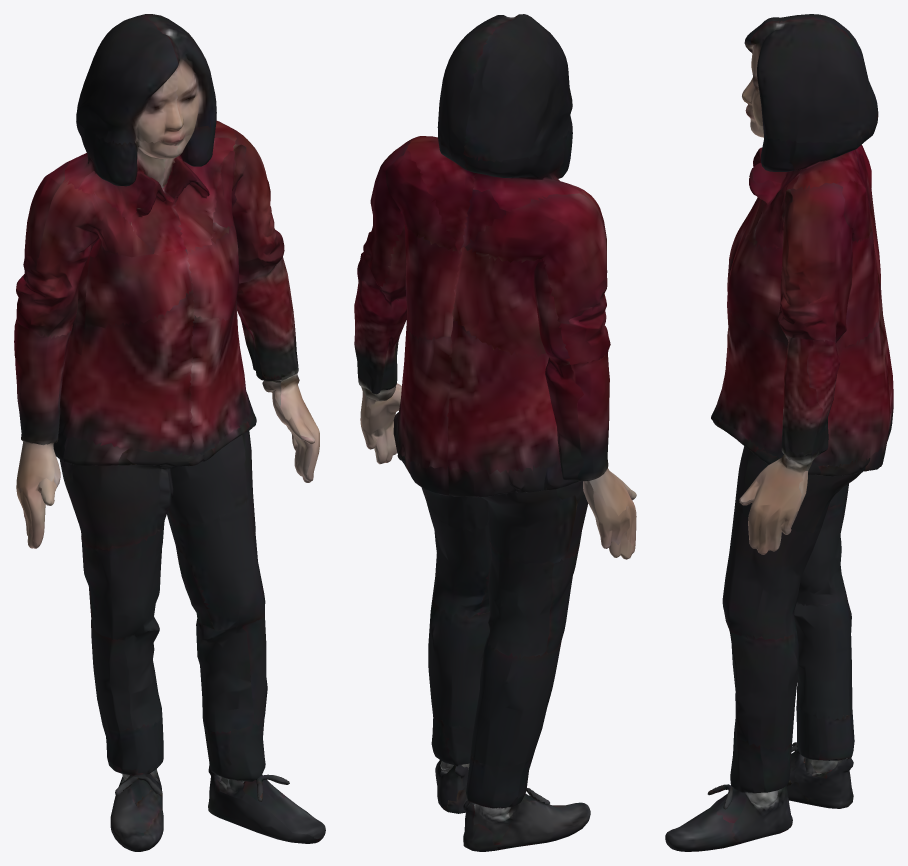
File: cewek_batik_lain_idle_lod2.glb
3 views of the same model, side by side, from view 1: azimuth 30°, elevation 25°; view 2: azimuth 150°, elevation 25°; view 3: azimuth 270°, elevation 25° (orthographic). The views are drawn at different scales.
Visible parts, largest first — view 1: tripo_node_2c1b2557-00a5-4bd0-a920-2a98aa71956e; view 2: tripo_node_2c1b2557-00a5-4bd0-a920-2a98aa71956e; view 3: tripo_node_2c1b2557-00a5-4bd0-a920-2a98aa71956e.
Part boxes in pixels (x1,y1,x2,y2): tripo_node_2c1b2557-00a5-4bd0-a920-2a98aa71956e: (14,14,325,851); tripo_node_2c1b2557-00a5-4bd0-a920-2a98aa71956e: (354,14,636,851); tripo_node_2c1b2557-00a5-4bd0-a920-2a98aa71956e: (665,14,893,851).
Size of the model in its own units: 35.16 by 97.26 by 25.73.
1 material, 1 textured.
